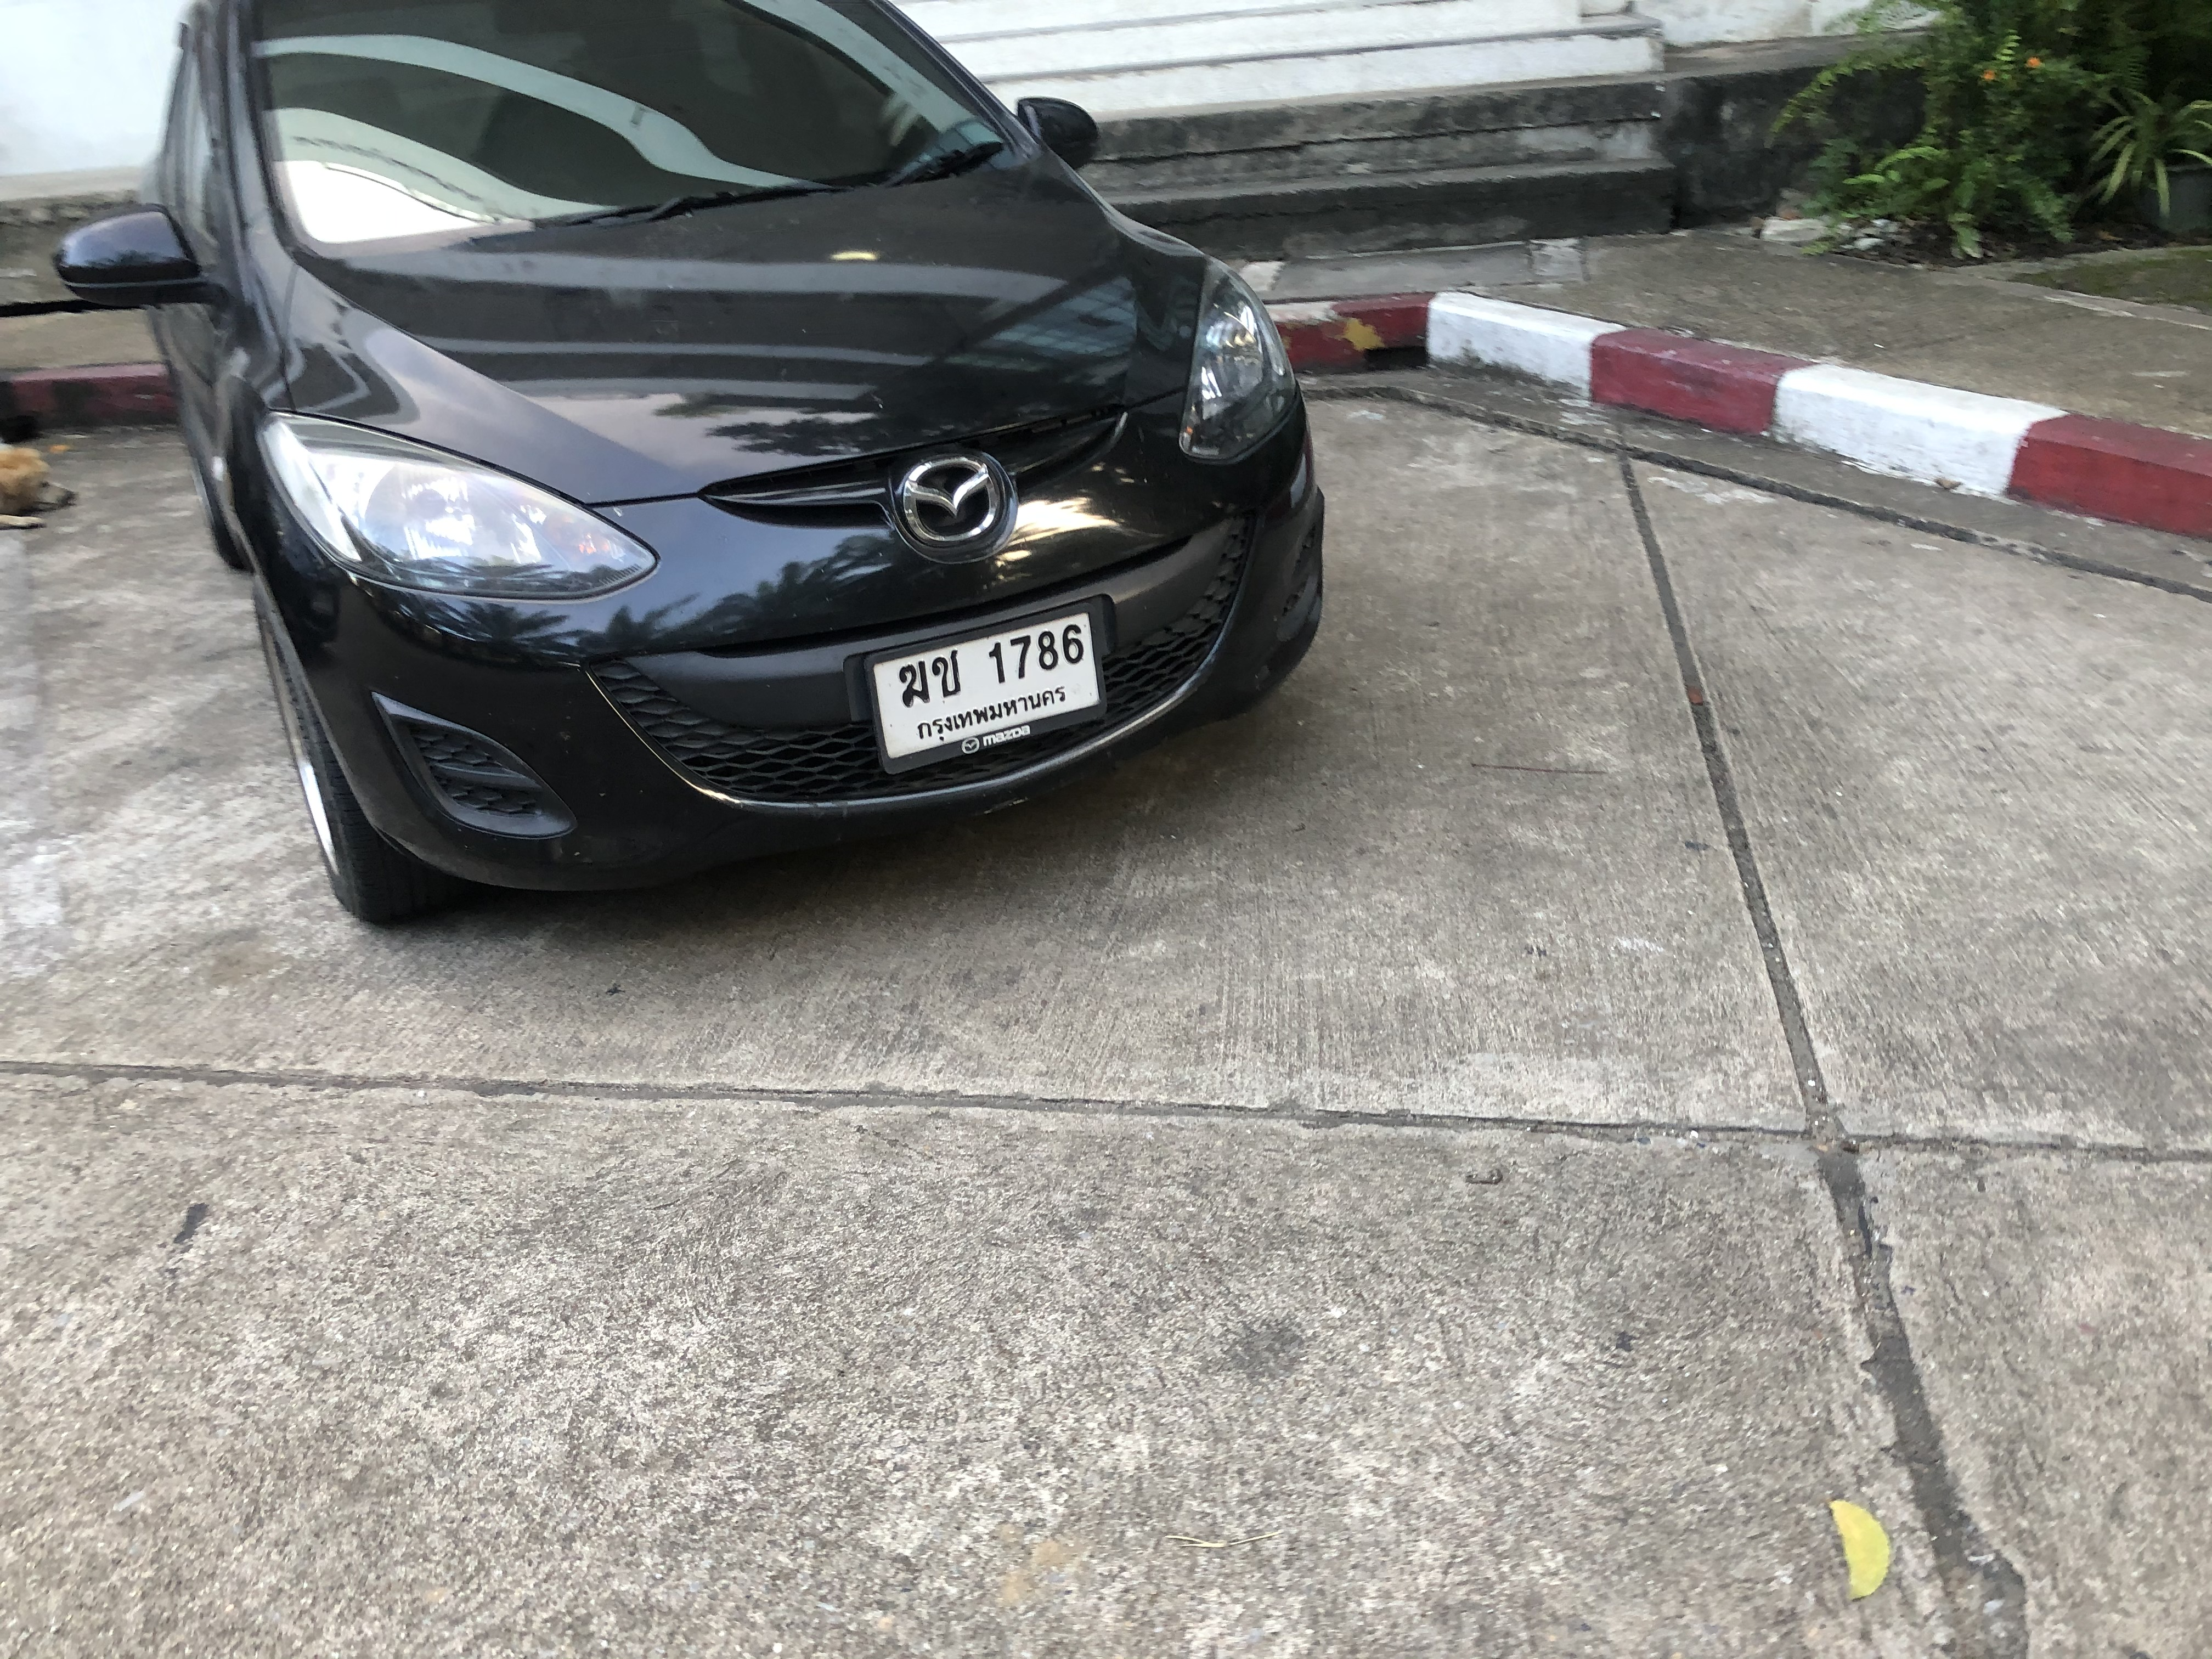in: (874, 613, 1108, 749)
out: (840, 586, 1134, 772)
